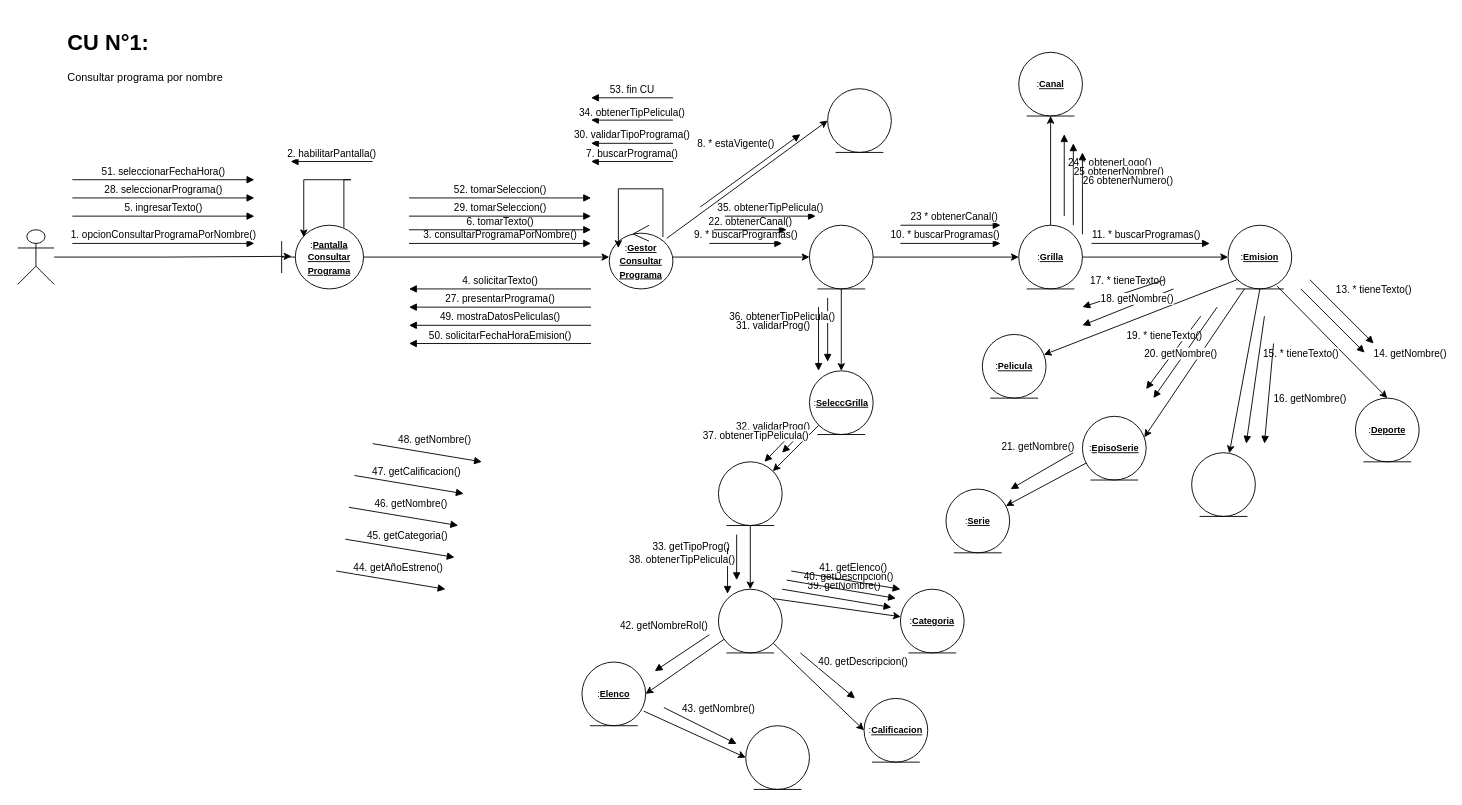
Image size: 1462x805. Some labels were removed from this diagram. The box of each missing label's shape, as (x1, y1, x2, y2) in pixels:
: Cliente: (17, 229, 54, 284)
: Programacion: (827, 88, 891, 152)
: ProgrInteres: (1191, 452, 1255, 516)
: Rol: (745, 725, 809, 789)
: SeleccEmis: (718, 461, 782, 526)
: SeleccPelicula: (718, 588, 782, 653)
Vigente : Programacion: (809, 224, 873, 289)
